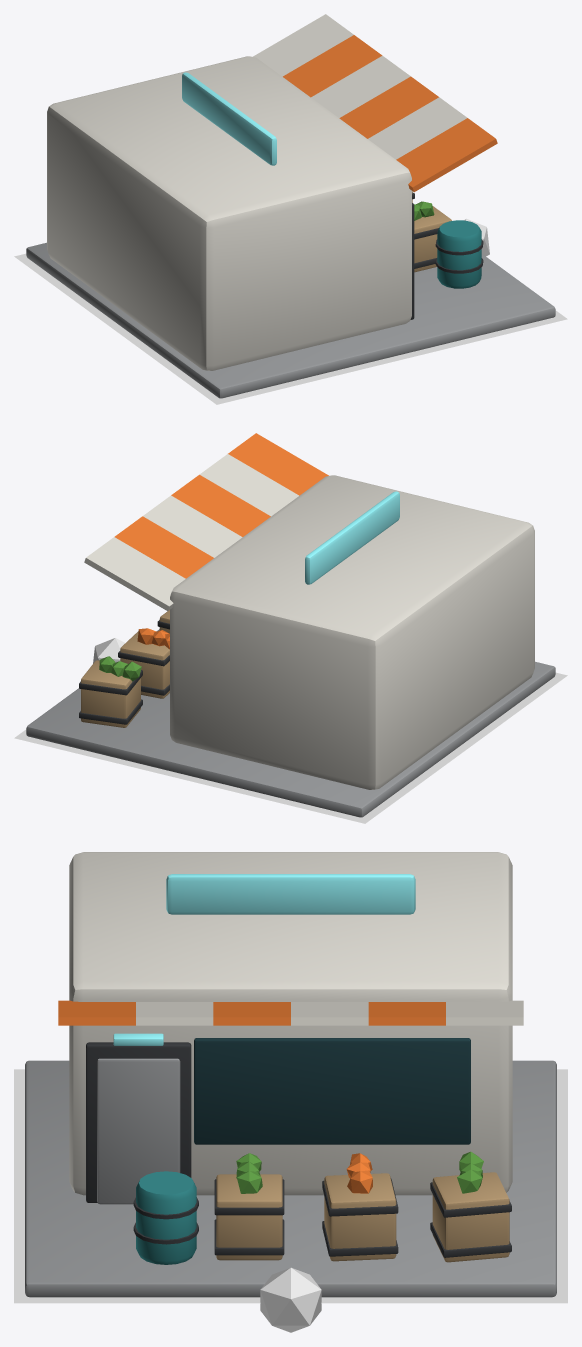
Rendered from grocery_1x1.gltf.
3 renders of one model, top to bottom at view 1: azimuth 30°, elevation 25°; view 2: azimuth 150°, elevation 25°; view 3: azimuth 270°, elevation 25°, orthographic. The views are drawn at different scales.
Visible parts, largest first — view 1: Grocery, %P%Footprint; view 2: Grocery, %P%Footprint, %P%AnchorIn; view 3: Grocery, %P%Footprint, %P%AnchorIn.
Part boxes in pixels (x1,y1,x2,y2): Grocery: (26,14,555,398); %P%Footprint: (14,253,567,404); Grocery: (26,433,555,817); %P%Footprint: (14,672,567,823); %P%AnchorIn: (93,638,125,663); Grocery: (25,852,556,1297); %P%Footprint: (14,1069,567,1303); %P%AnchorIn: (260,1267,321,1332).
Size of the model in its own units: 2.12 by 1.27 by 2.
